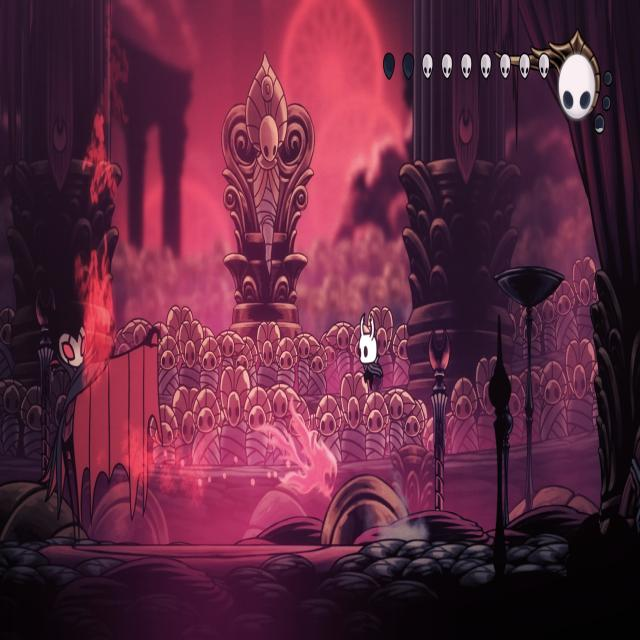Fire Bat: (260, 406, 336, 497)
Open Cloak: (30, 306, 166, 550)
Player: (353, 306, 384, 396)
